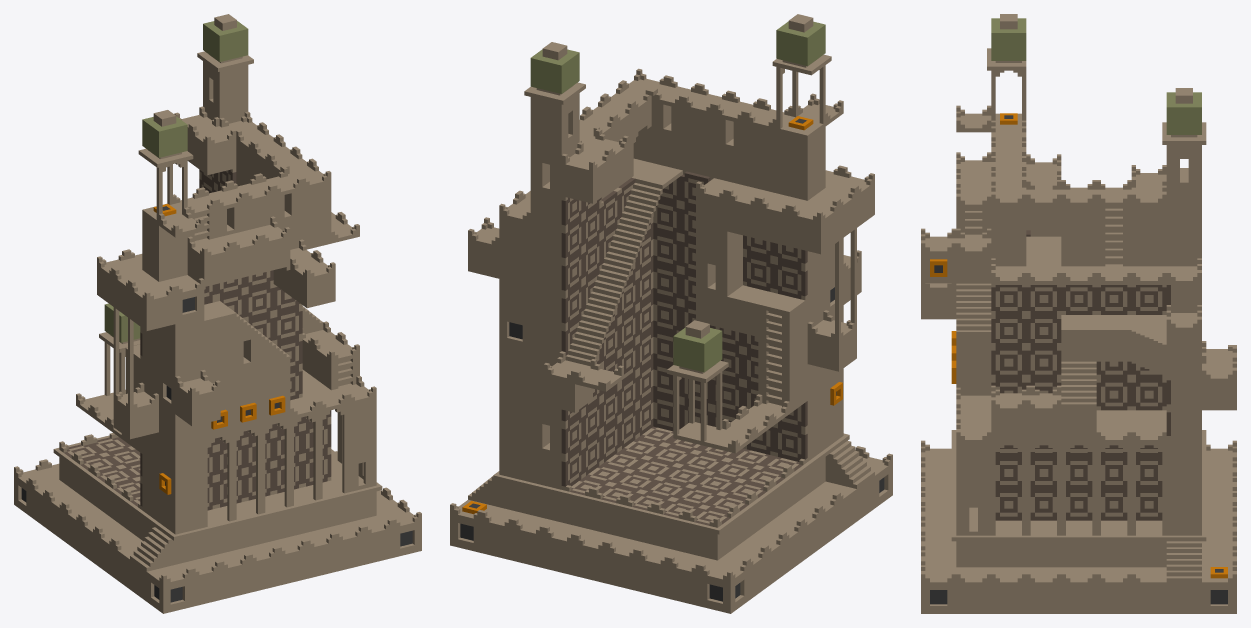
Rendered from main.glb.
The picture shows the model from 3 angles, left to right: view 1: azimuth 30°, elevation 25°; view 2: azimuth 150°, elevation 25°; view 3: azimuth 270°, elevation 25°; orthographic projection. The views are drawn at different scales.
Visible parts, largest first — view 1: monu10.vox; view 2: monu10.vox; view 3: monu10.vox.
Boxes of the visible parts, left/top/right/bottom form: monu10.vox: left=14, top=14, right=421, bottom=613; monu10.vox: left=450, top=14, right=892, bottom=613; monu10.vox: left=921, top=14, right=1236, bottom=613.
Bounding box in the file's own units: 72 × 122 × 72.
